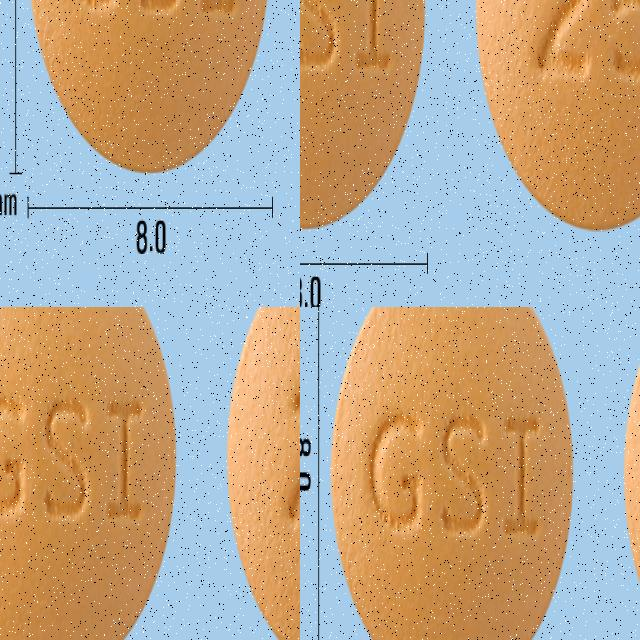Hepsevir: (118, 524, 257, 640)
Lectacin: (102, 44, 300, 244)
Levofcin: (334, 66, 481, 307)
Vfend Tab: (330, 307, 573, 640)
